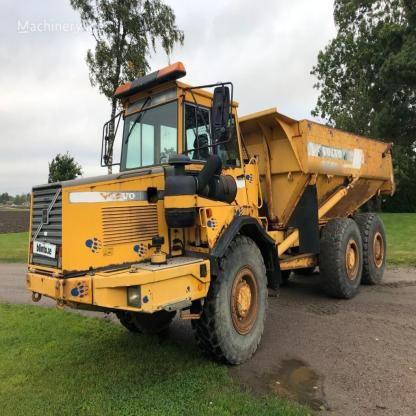dump_truck: (26, 58, 408, 356)
